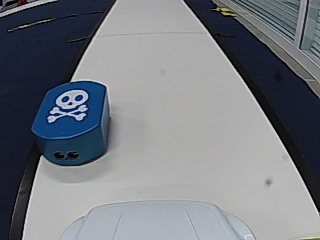danger: (48, 90, 87, 123)
